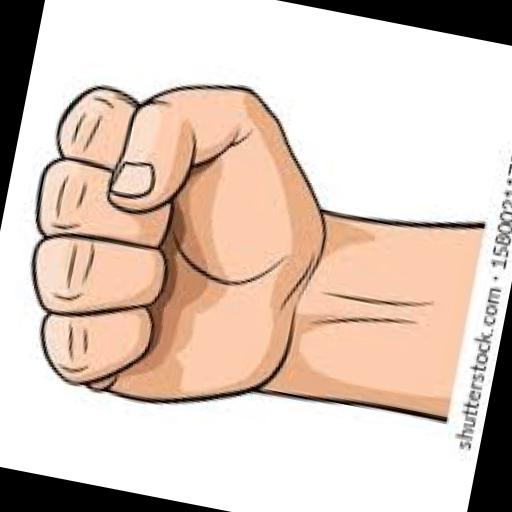Fist: (0, 24, 405, 479)
